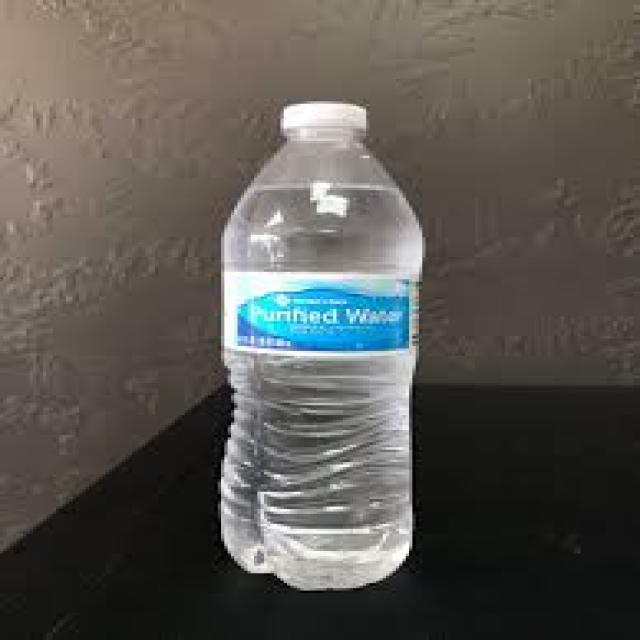bottle: (203, 93, 438, 598)
cap: (275, 93, 370, 141)
label: (207, 262, 425, 366)
